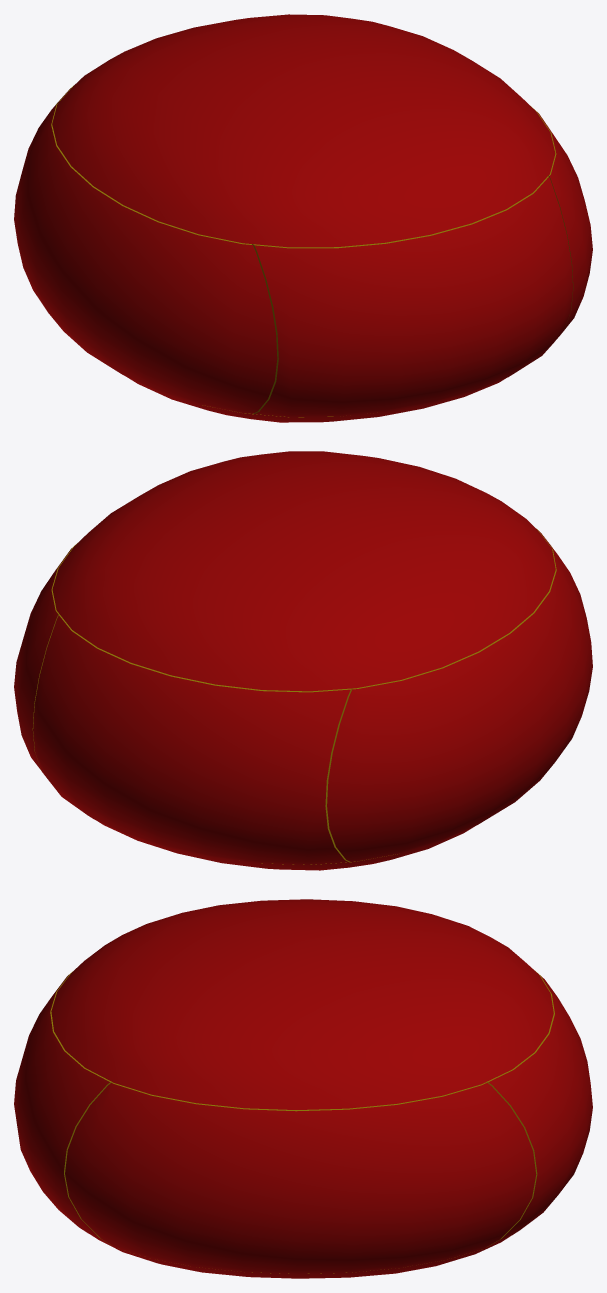
Rendered from bread02.FBX.
The picture shows the model from 3 angles, top to bottom: view 1: azimuth 30°, elevation 25°; view 2: azimuth 150°, elevation 25°; view 3: azimuth 270°, elevation 25°; orthographic projection. The views are drawn at different scales.
Parts seen in each view (by area): view 1: 13_01, 13_02, 13_03, 13_04, 13_06; view 2: 13_01, 13_05, 13_03, 13_04, 13_06; view 3: 13_01, 13_04, 13_05, 13_02, 13_06.
Boxes of the visible parts, x1=… form: 13_01: x1=52, y1=14, x2=555, y2=247; 13_02: x1=252, y1=176, x2=572, y2=417; 13_03: x1=14, y1=103, x2=277, y2=413; 13_04: x1=531, y1=106, x2=592, y2=338; 13_06: x1=127, y1=377, x2=505, y2=422; 13_01: x1=52, y1=451, x2=555, y2=691; 13_05: x1=33, y1=614, x2=353, y2=864; 13_03: x1=327, y1=545, x2=592, y2=861; 13_04: x1=14, y1=543, x2=77, y2=770; 13_06: x1=96, y1=820, x2=474, y2=870; 13_01: x1=51, y1=899, x2=553, y2=1109; 13_04: x1=65, y1=1082, x2=536, y2=1273; 13_05: x1=485, y1=971, x2=592, y2=1245; 13_02: x1=14, y1=971, x2=112, y2=1245; 13_06: x1=91, y1=1235, x2=510, y2=1278.
Bounding box in the file's own units: 492 × 279 × 538.
